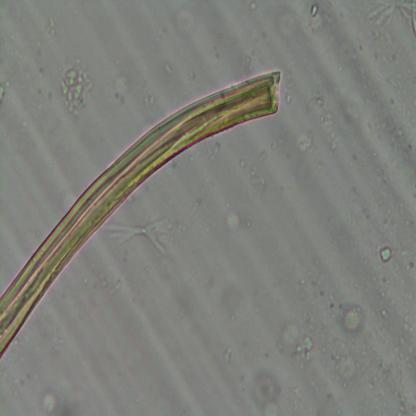Background material: (338, 49, 416, 162), (370, 283, 416, 393), (226, 143, 274, 204), (58, 60, 93, 118), (107, 224, 170, 256), (365, 0, 416, 34), (114, 72, 157, 111), (313, 90, 337, 154), (250, 369, 282, 415), (329, 345, 364, 386), (284, 323, 316, 363), (168, 5, 202, 36), (272, 7, 300, 42), (339, 300, 366, 336), (208, 141, 232, 173), (307, 1, 337, 24), (0, 76, 19, 106), (293, 129, 314, 153), (40, 390, 59, 414), (376, 242, 394, 267), (42, 13, 59, 34), (225, 211, 242, 231)
Microfibre: (0, 69, 281, 354)
